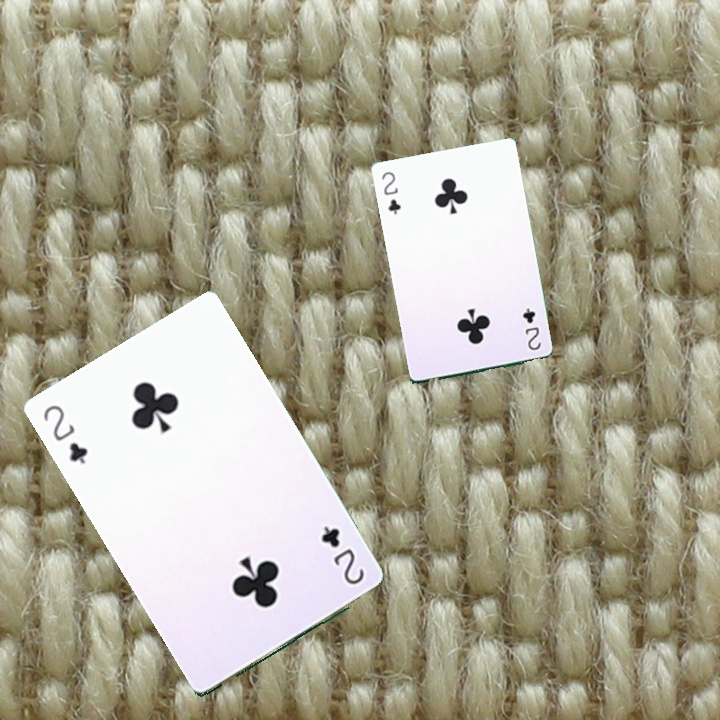2c: (39, 400, 91, 467), (317, 522, 367, 588), (518, 304, 544, 353), (378, 167, 403, 217)
